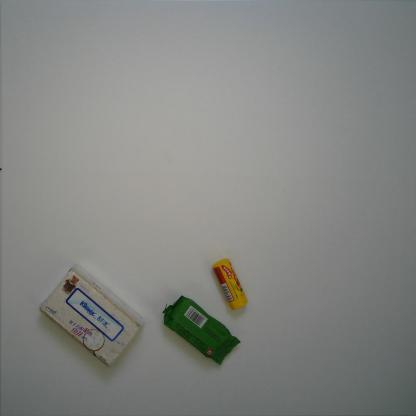Candy: (212, 257, 249, 311)
Dessert: (162, 294, 241, 366)
Tissue: (37, 263, 146, 369)
